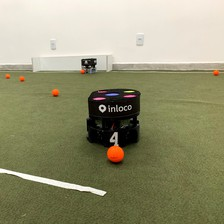ball: (104, 142, 127, 166), (50, 86, 61, 97), (2, 71, 12, 81), (211, 68, 220, 78), (16, 73, 26, 82), (77, 66, 84, 73)
goal: (29, 52, 114, 74)
robot: (82, 84, 142, 147), (78, 55, 98, 72)
